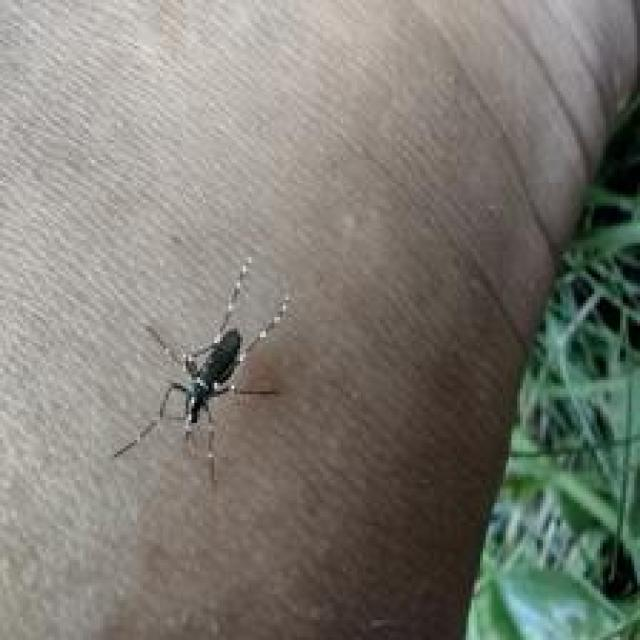Aedes albopictus: (110, 254, 293, 486)
